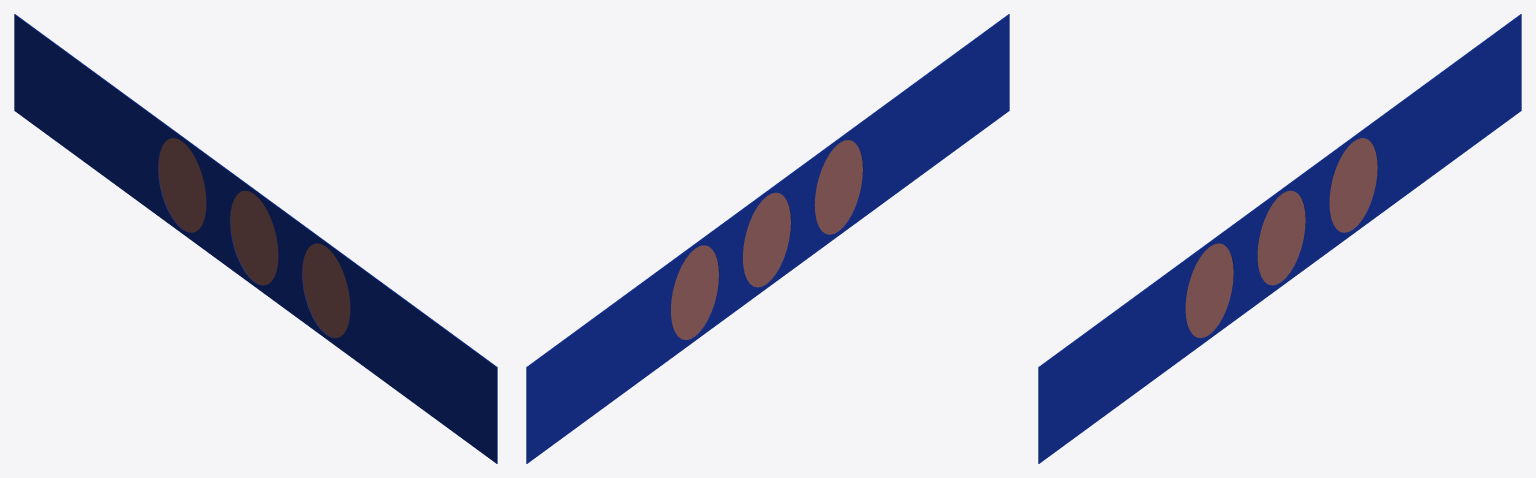
File: 10x90 3circles.FBX
3 views of the same model, side by side, from view 1: azimuth 30°, elevation 25°; view 2: azimuth 150°, elevation 25°; view 3: azimuth 330°, elevation 25° (orthographic).
Visible parts, largest first — view 1: Box070; view 2: Box070; view 3: Box070.
Part boxes in pixels (<box>): Box070: <box>14,14,497,463</box>; Box070: <box>526,14,1009,463</box>; Box070: <box>1038,14,1521,463</box>.
Size of the model in its own units: 0.1 by 10 by 90.64.
